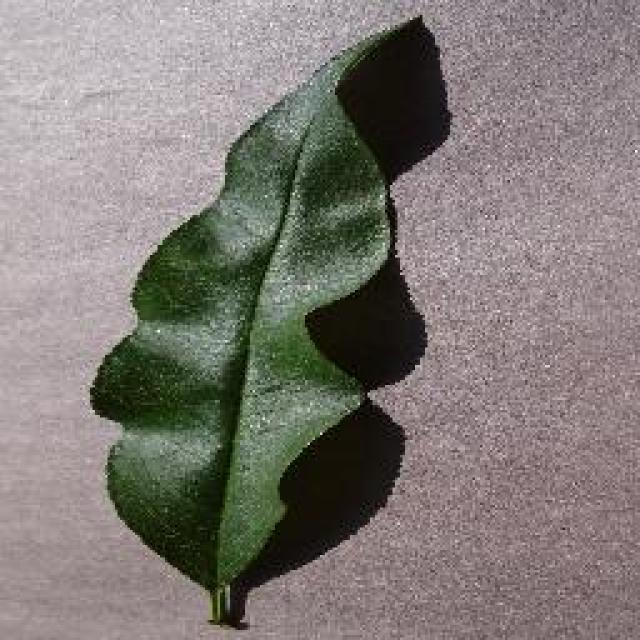Pea_healthy: (128, 86, 408, 582)
